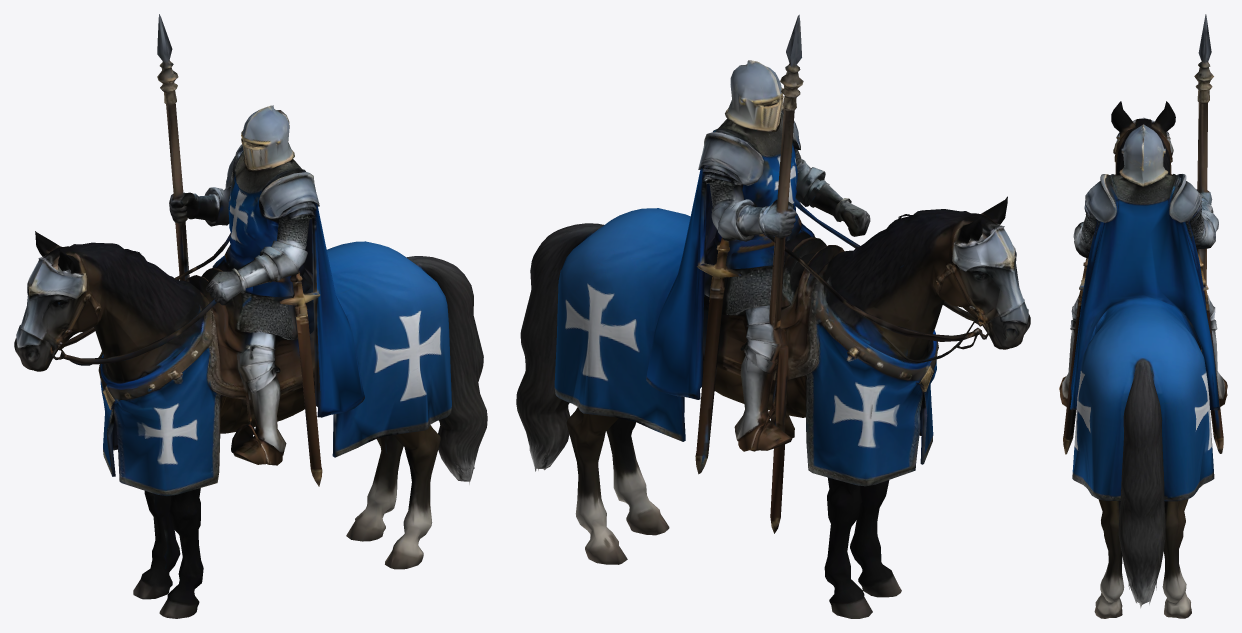
The model's file is hum_cav.glb.
The picture shows the model from 3 angles, left to right: view 1: azimuth 30°, elevation 25°; view 2: azimuth 150°, elevation 25°; view 3: azimuth 270°, elevation 25°; orthographic projection. The views are drawn at different scales.
Parts seen in each view (by area): view 1: node_0; view 2: node_0; view 3: node_0.
Part boxes in pixels (bbox=[...]): node_0: bbox=[14, 14, 487, 618]; node_0: bbox=[516, 14, 1030, 618]; node_0: bbox=[1059, 14, 1227, 618].
Bounding box in the file's own units: 0.8904 × 1.02 × 0.3042.
1 material, 1 textured.
